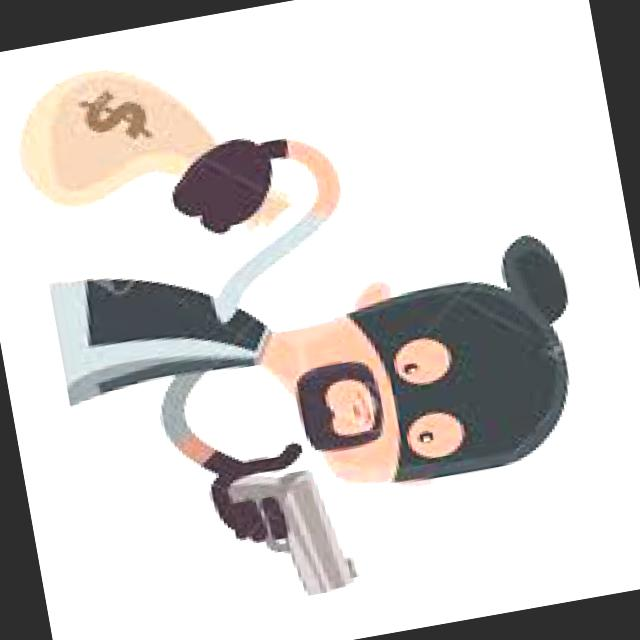handgun: (220, 455, 366, 607)
